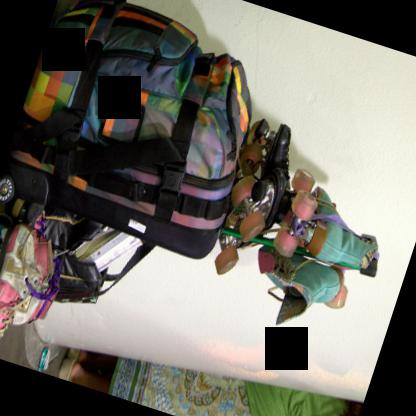backpack: (0, 0, 252, 264)
